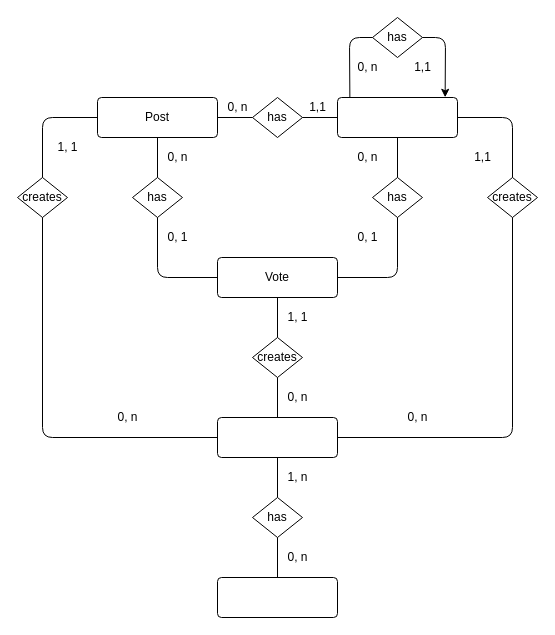
This 555x635 diagram has some shape labels left out. Here are the shapes that lost their labels. From the top down, the box of each, then its label:
(336, 96, 458, 138): Comment
(216, 416, 338, 458): User
(216, 576, 338, 618): Role
